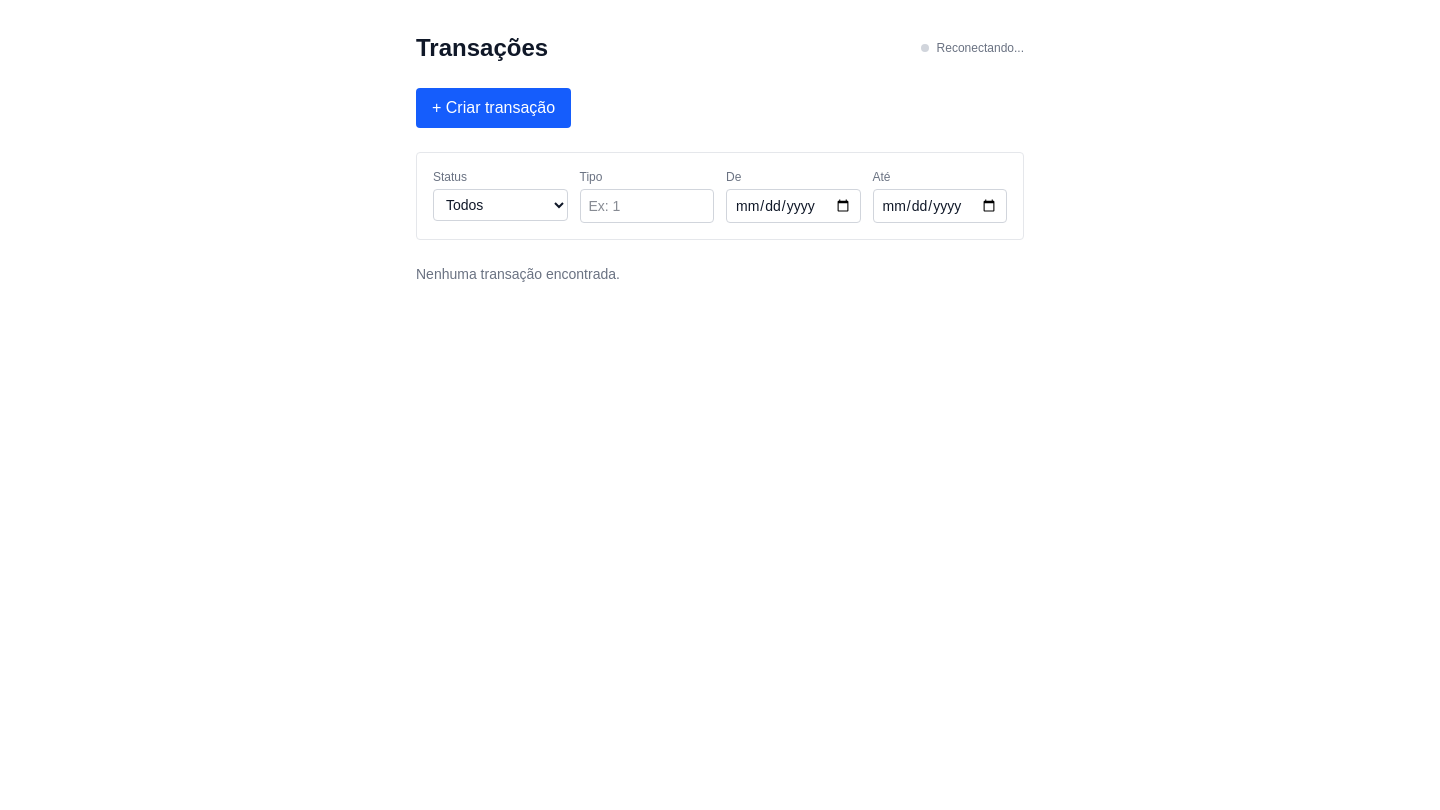
Test: Home › abre o modal ao clicar em criar transacao
Click the button "+ Criar transação": (494, 108) [416,88,571,128]
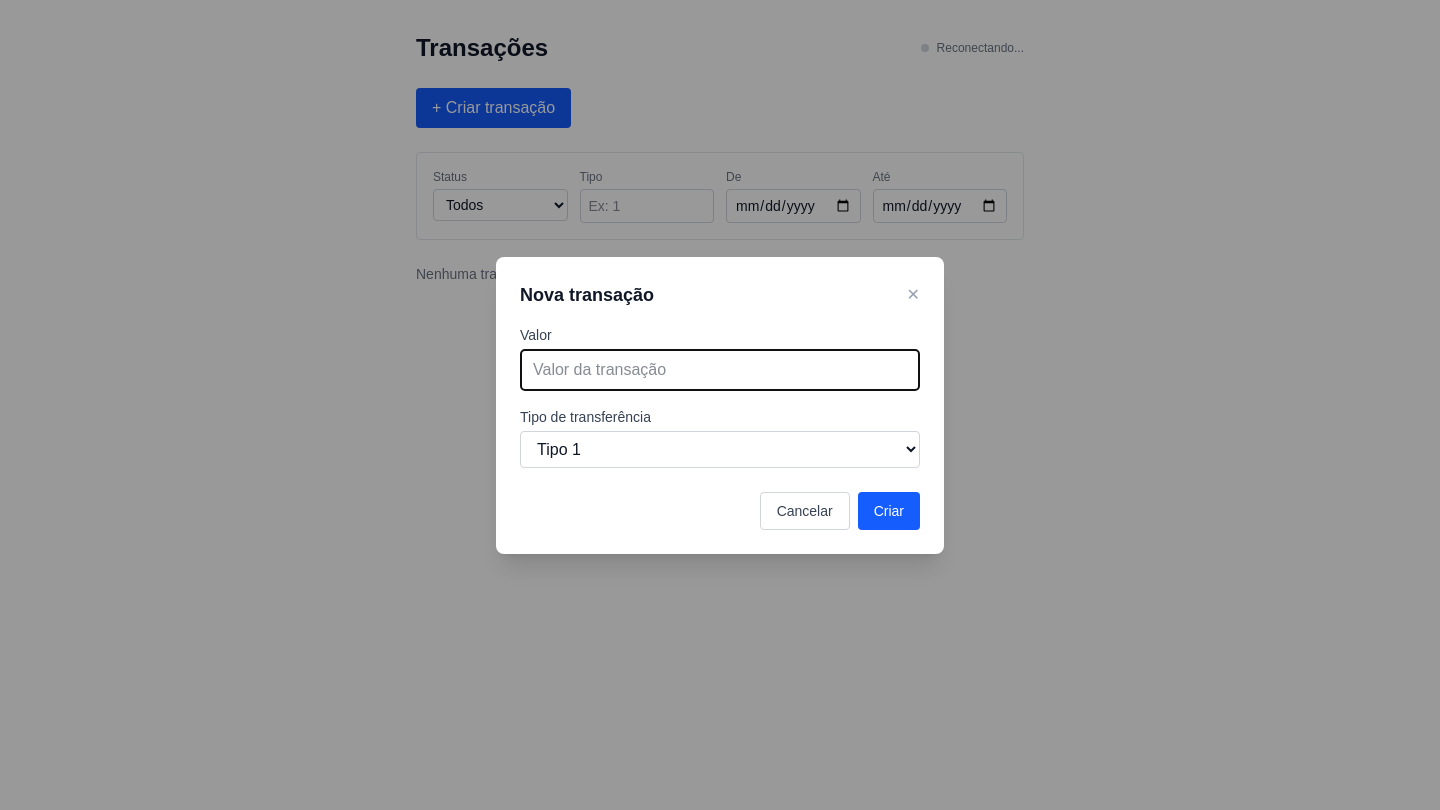
Result: the heading "Nova transação" is shown at [520,280,654,308]
